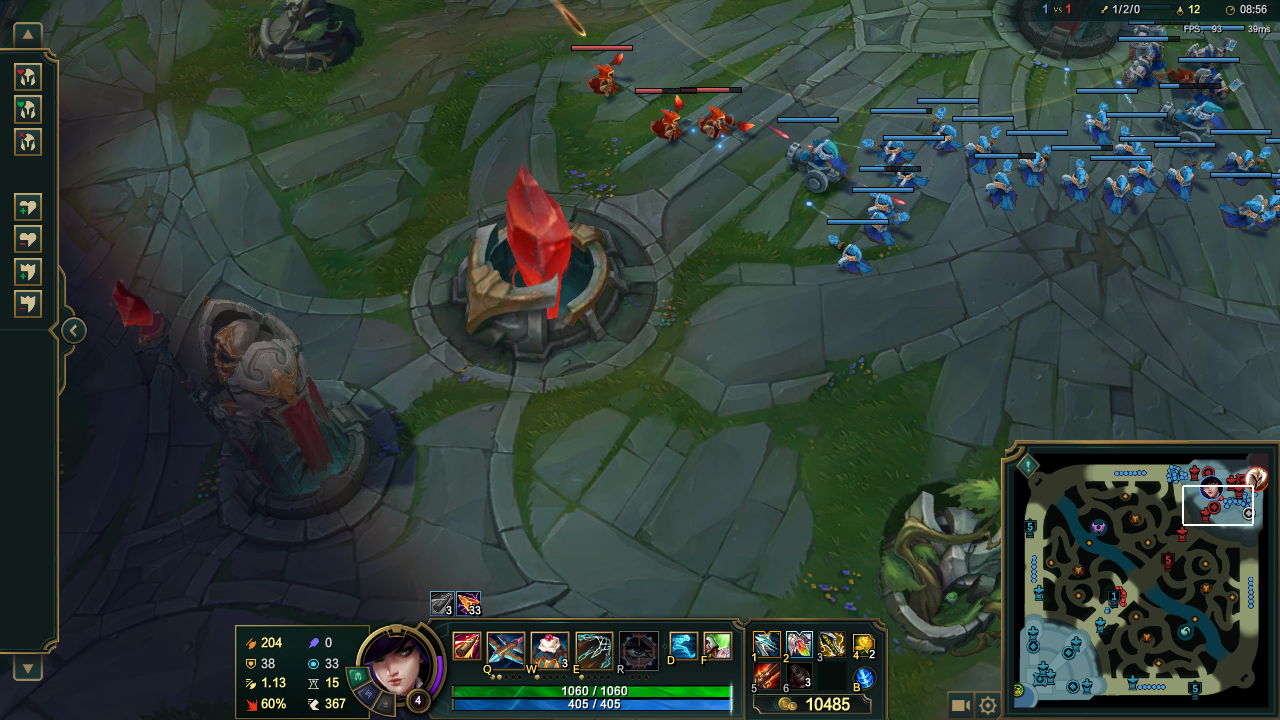DFFYT: (168, 308, 370, 502)
DFSJ: (452, 181, 634, 361)
